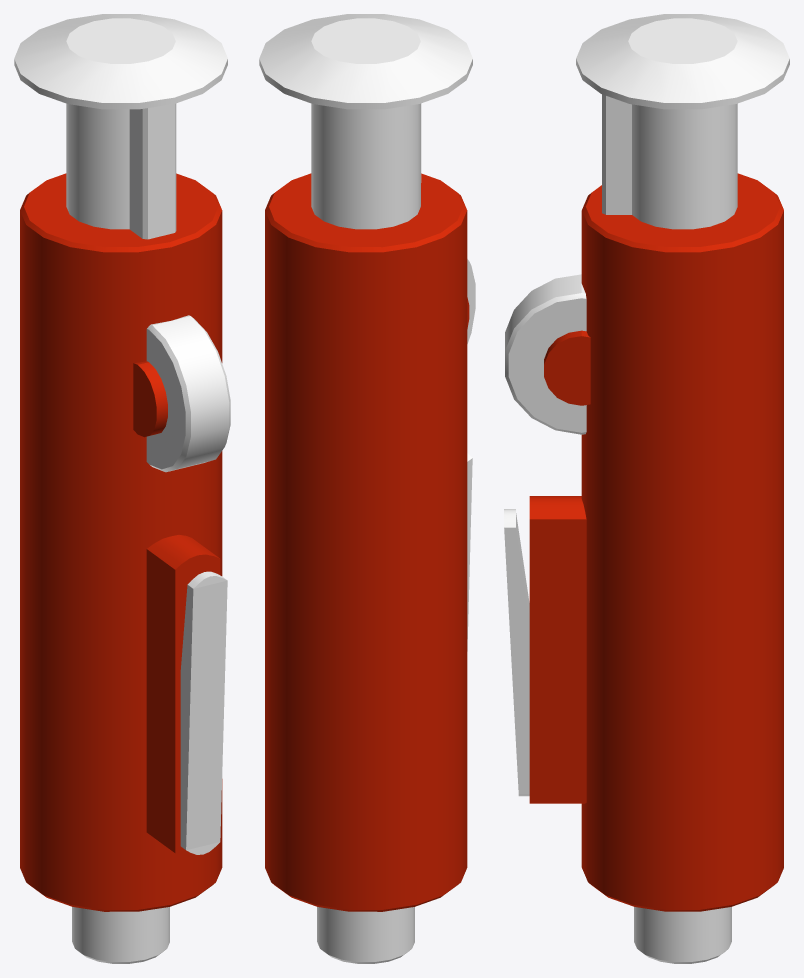
The model's file is Pipet.fbx.
The picture shows the model from 3 angles, left to right: view 1: azimuth 30°, elevation 25°; view 2: azimuth 150°, elevation 25°; view 3: azimuth 270°, elevation 25°; orthographic projection.
Parts seen in each view (by area): view 1: Pipet_Body, Pipet_Pump, Pipet_Mode, Pipet_Speed; view 2: Pipet_Body, Pipet_Pump, Pipet_Mode, Pipet_Speed; view 3: Pipet_Body, Pipet_Pump, Pipet_Speed, Pipet_Mode.
Part boxes in pixels (x1,y1,x2,y2): Pipet_Body: (20, 173, 222, 963); Pipet_Pump: (14, 14, 227, 239); Pipet_Mode: (180, 571, 227, 854); Pipet_Speed: (146, 315, 230, 472); Pipet_Body: (265, 173, 469, 963); Pipet_Pump: (259, 14, 472, 229); Pipet_Mode: (467, 453, 472, 651); Pipet_Speed: (467, 259, 475, 343); Pipet_Body: (529, 173, 783, 963); Pipet_Pump: (576, 14, 789, 229); Pipet_Speed: (505, 274, 586, 434); Pipet_Mode: (504, 509, 529, 796).
Size of the model in its own units: 8.08 by 38.26 by 10.96.
